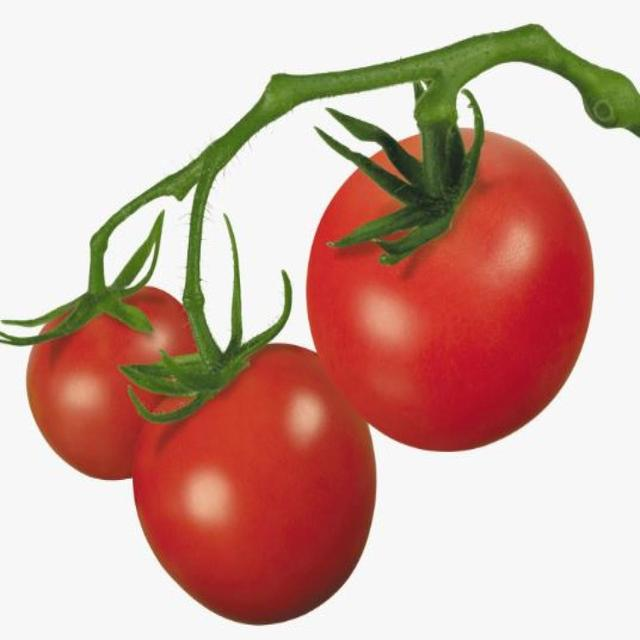Healthy Fruit: (73, 151, 304, 316)
